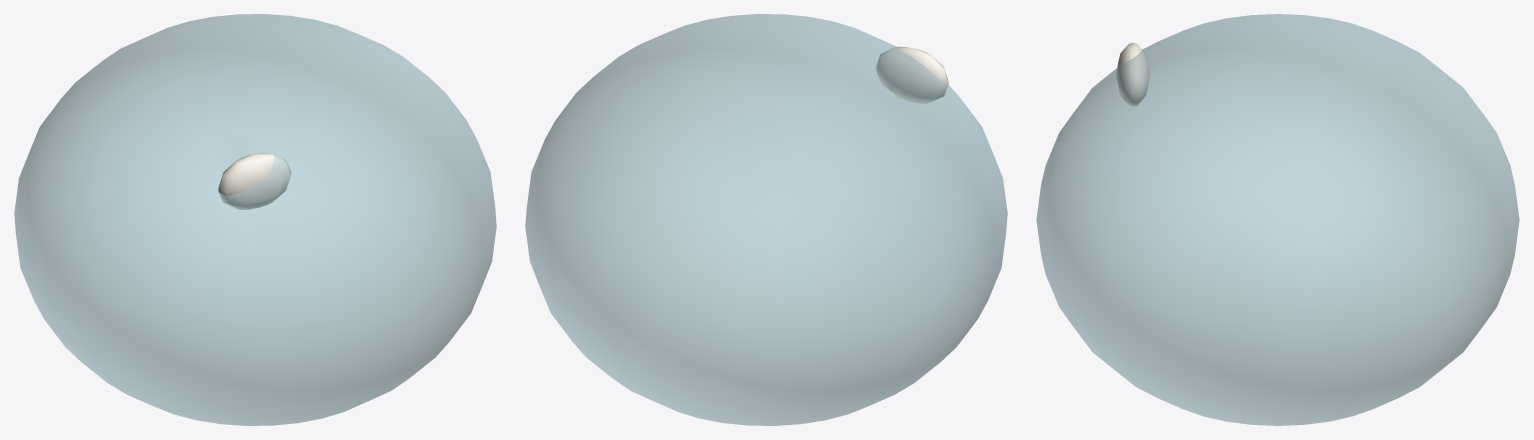
File: glade_dewdrop.glb
3 views of the same model, side by side, from view 1: azimuth 30°, elevation 25°; view 2: azimuth 150°, elevation 25°; view 3: azimuth 270°, elevation 25° (orthographic).
Parts seen in each view (by area): view 1: glade_dewdrop; view 2: glade_dewdrop; view 3: glade_dewdrop.
Part boxes in pixels (x1,y1,x2,y2): glade_dewdrop: (14,14,496,425); glade_dewdrop: (525,14,1007,425); glade_dewdrop: (1036,14,1519,425).
Bounding box in the file's own units: 3.9 × 3.2 × 3.9.
